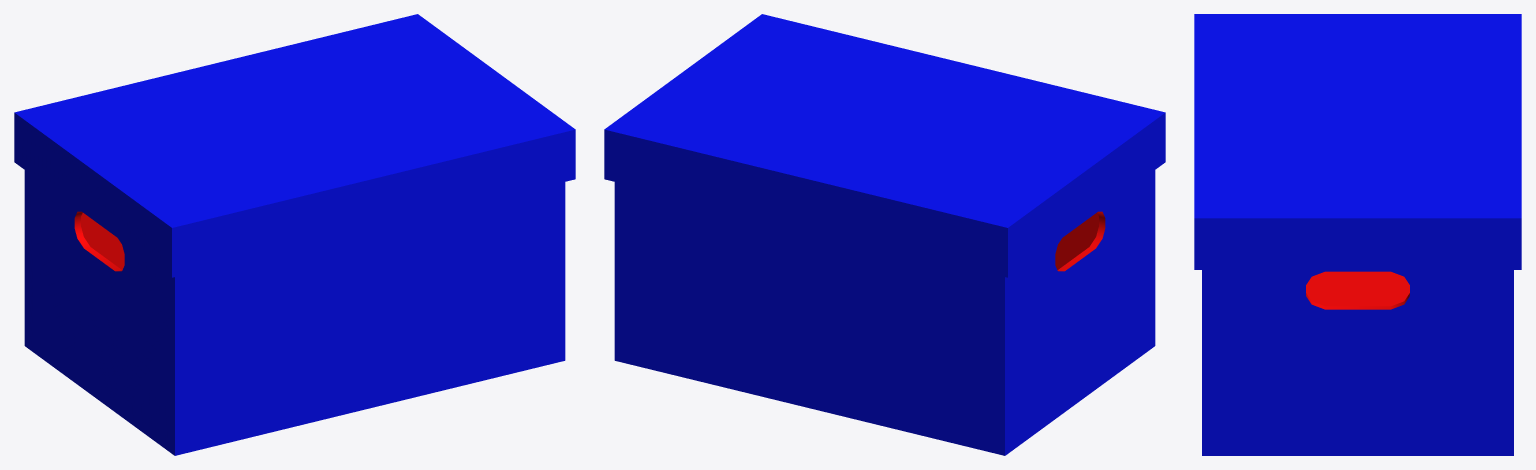
Rendered from Her_emptyfileboxwithlid_ZW.fbx.
3 renders of one model, left to right at view 1: azimuth 30°, elevation 25°; view 2: azimuth 150°, elevation 25°; view 3: azimuth 270°, elevation 25°, orthographic. The views are drawn at different scales.
Parts seen in each view (by area): view 1: Box001, Box002; view 2: Box001, Box002; view 3: Box002, Box001.
Boxes of the visible parts, left/top/right/bottom form: Box001: left=24, top=170, right=565, bottom=455; Box002: left=14, top=14, right=575, bottom=277; Box001: left=614, top=170, right=1155, bottom=455; Box002: left=604, top=14, right=1165, bottom=277; Box002: left=1194, top=14, right=1521, bottom=269; Box001: left=1202, top=270, right=1513, bottom=455.
Bounding box in the file's own units: 31 × 17.05 × 21.
